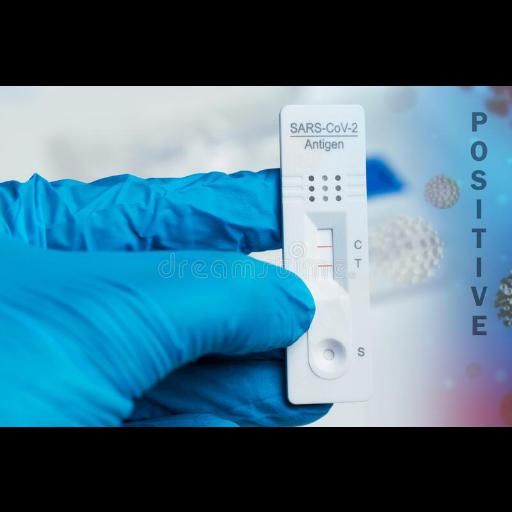Pos: (284, 104, 366, 402)
